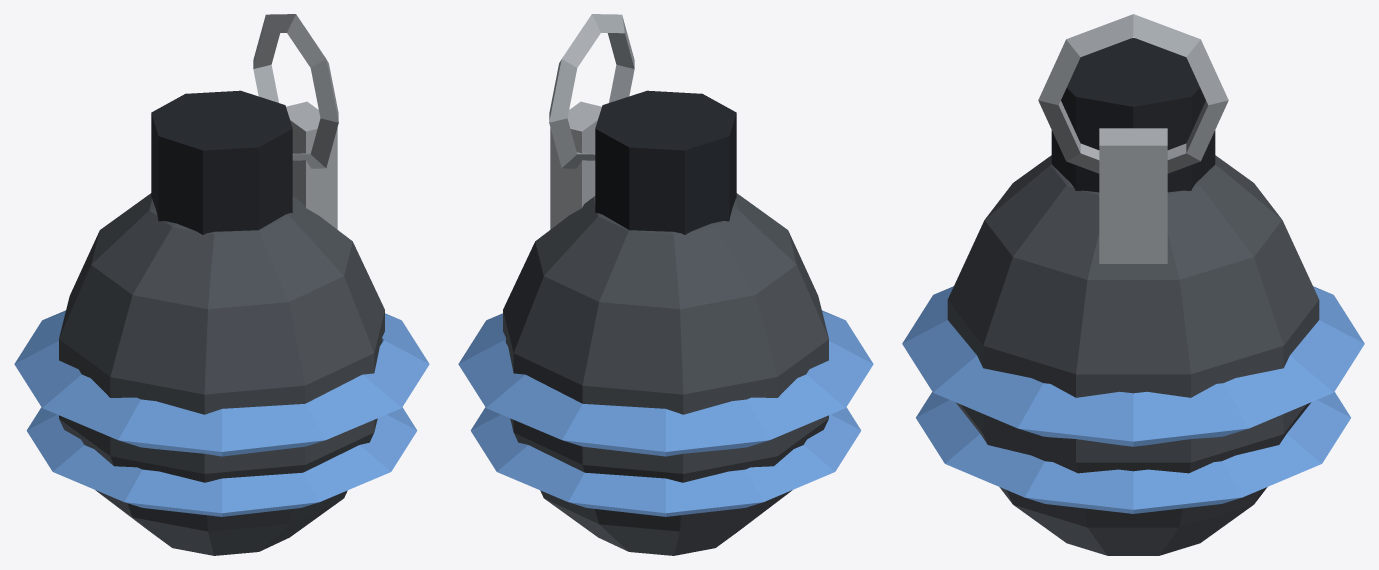
Rendered from grenade-stun.glb.
3 renders of one model, left to right at view 1: azimuth 30°, elevation 25°; view 2: azimuth 150°, elevation 25°; view 3: azimuth 270°, elevation 25°, orthographic. The views are drawn at different scales.
Parts seen in each view (by area): view 1: m; view 2: m; view 3: m.
Boxes of the visible parts, left/top/right/bottom form: m: left=14, top=14, right=429, bottom=555; m: left=458, top=14, right=873, bottom=555; m: left=902, top=14, right=1364, bottom=555.
Size of the model in its own units: 0.059 by 0.08 by 0.059.
